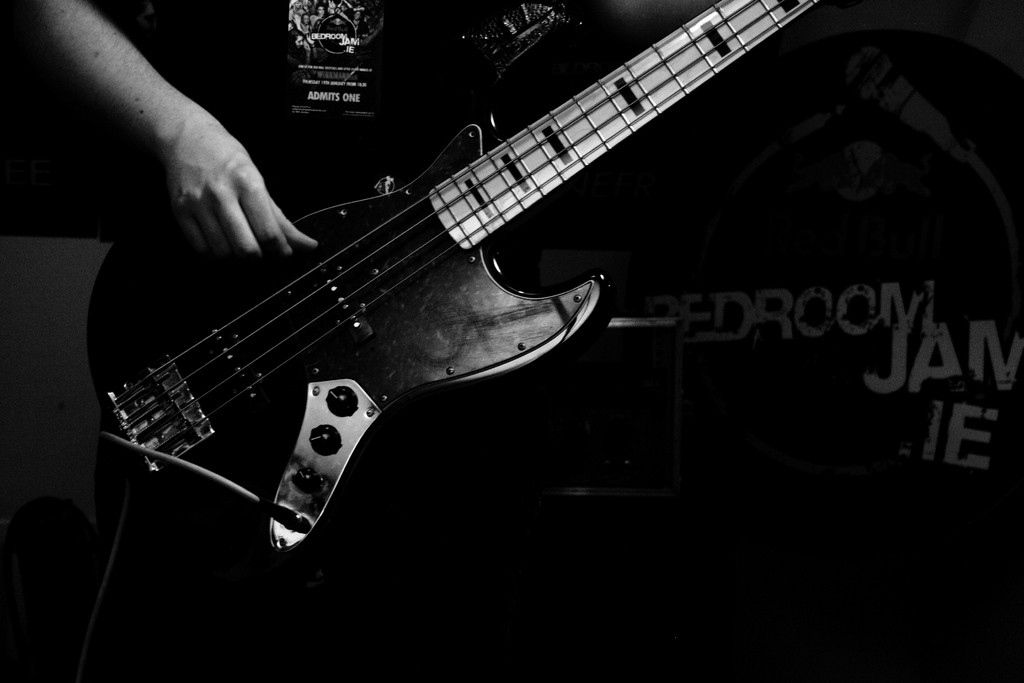guitar: (89, 0, 818, 553)
